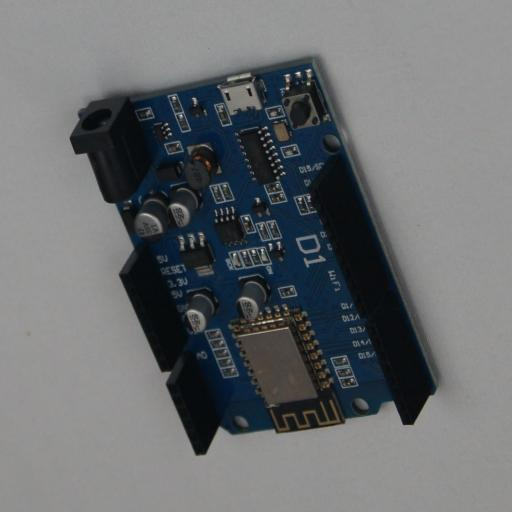Arduino Uno WiFi Shield: (70, 56, 440, 456)
